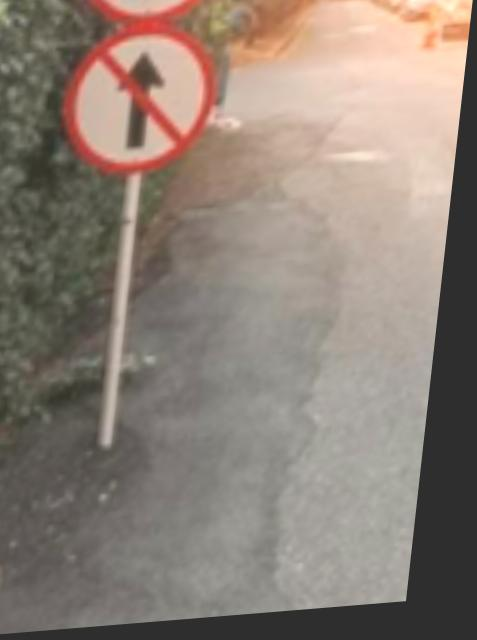not_go_straight: (60, 24, 228, 188)
